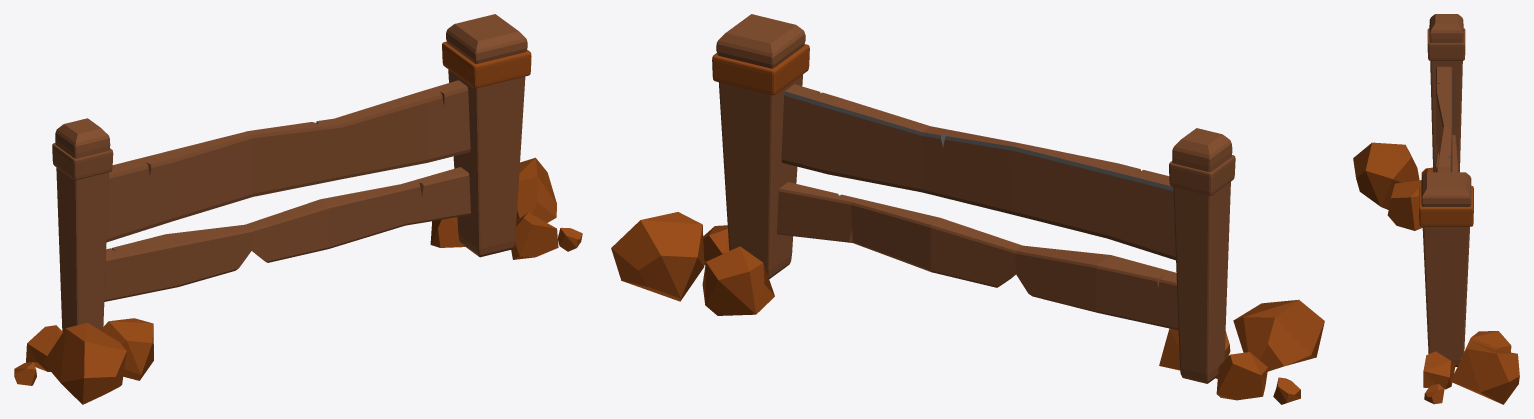
Rendered from GameJam3D_Barrier_Ok.fbx.
3 renders of one model, left to right at view 1: azimuth 30°, elevation 25°; view 2: azimuth 150°, elevation 25°; view 3: azimuth 270°, elevation 25°, orthographic. The views are drawn at different scales.
Visible parts, largest first — view 1: M_Barrier; view 2: M_Barrier; view 3: M_Barrier.
Boxes of the visible parts, x1=… form: M_Barrier: x1=14, y1=14, x2=582, y2=404; M_Barrier: x1=611, y1=14, x2=1324, y2=404; M_Barrier: x1=1353, y1=14, x2=1519, y2=404.
Size of the model in its own units: 888 by 349 by 268.
